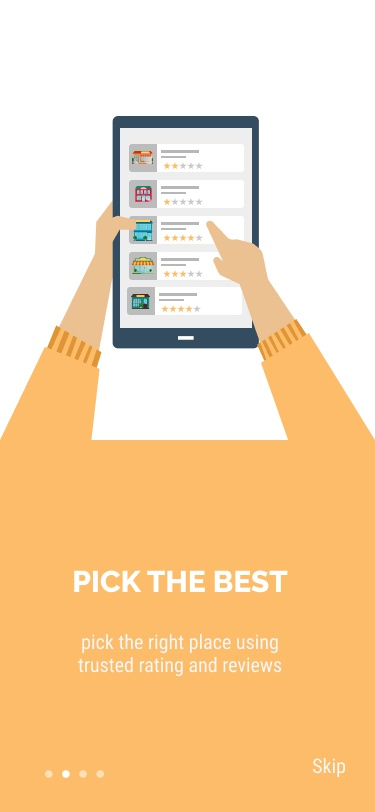Image: (1, 116, 375, 440)
PageIndicator: (44, 768, 106, 779)
Text: (78, 633, 283, 678), (73, 569, 289, 593), (312, 757, 346, 778)
